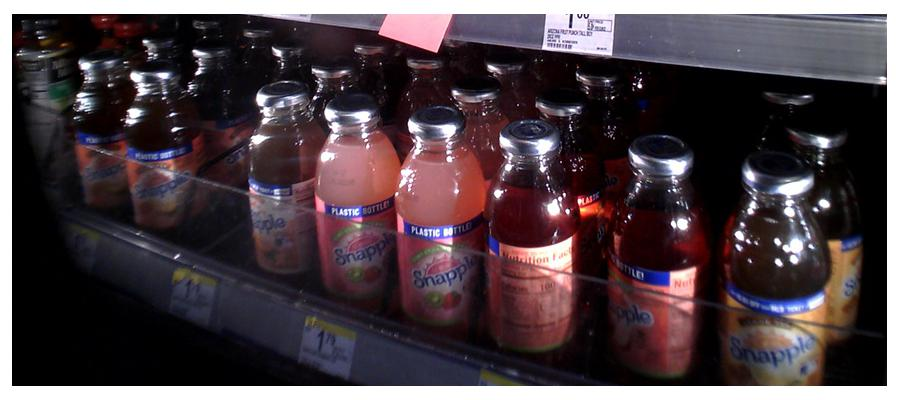bottle: (728, 151, 826, 391), (610, 135, 704, 381), (488, 120, 573, 360), (398, 106, 481, 338), (317, 93, 393, 313), (247, 76, 315, 287), (125, 67, 194, 237), (73, 51, 127, 215)
